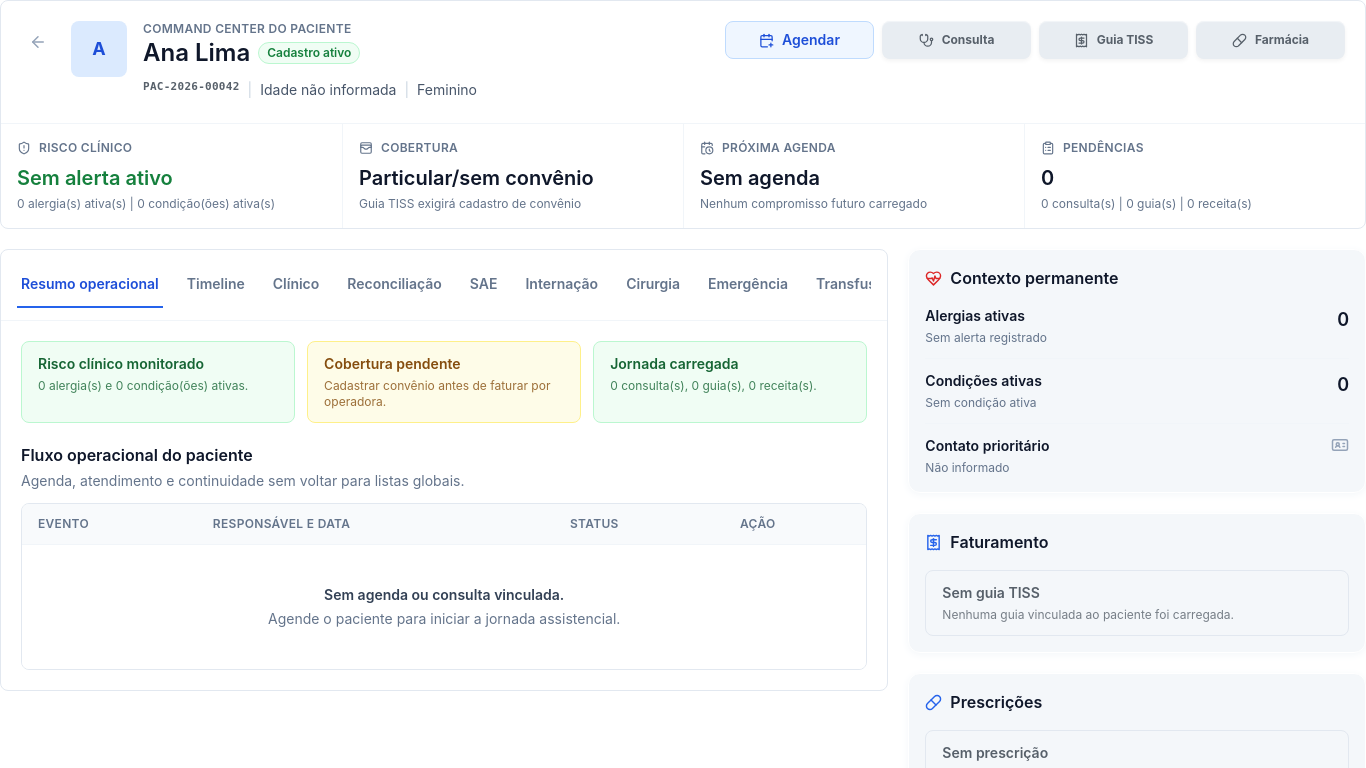
Scenario: PatientDetailPage › exposes an Internação tab that renders the ADT admission panel
The image size is (1366, 768).
Expected: the heading "Ana Lima" is shown, [143,37,250,69]
Click the button "Internação" at (562, 285), box [522,262,602,308]
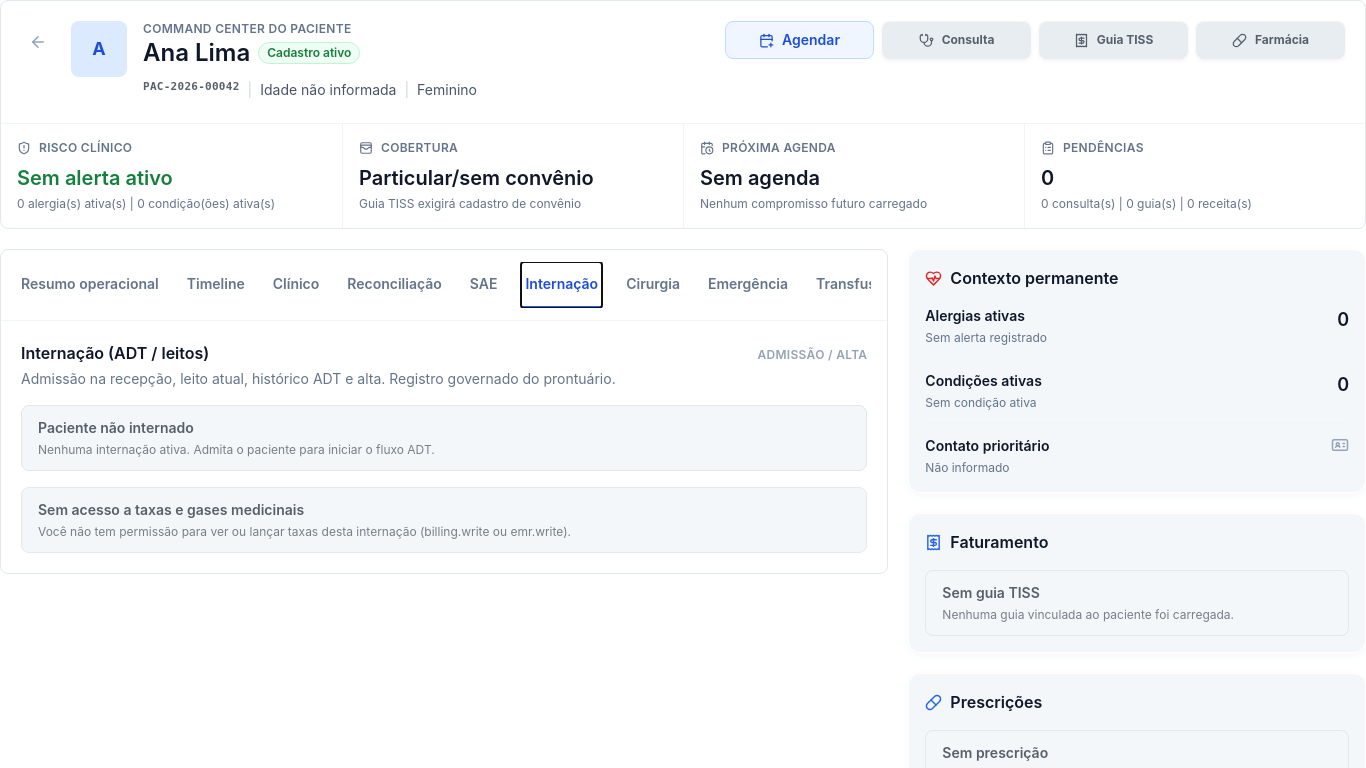
Expected: the text "Paciente não internado" is shown, [38,419,194,436]
